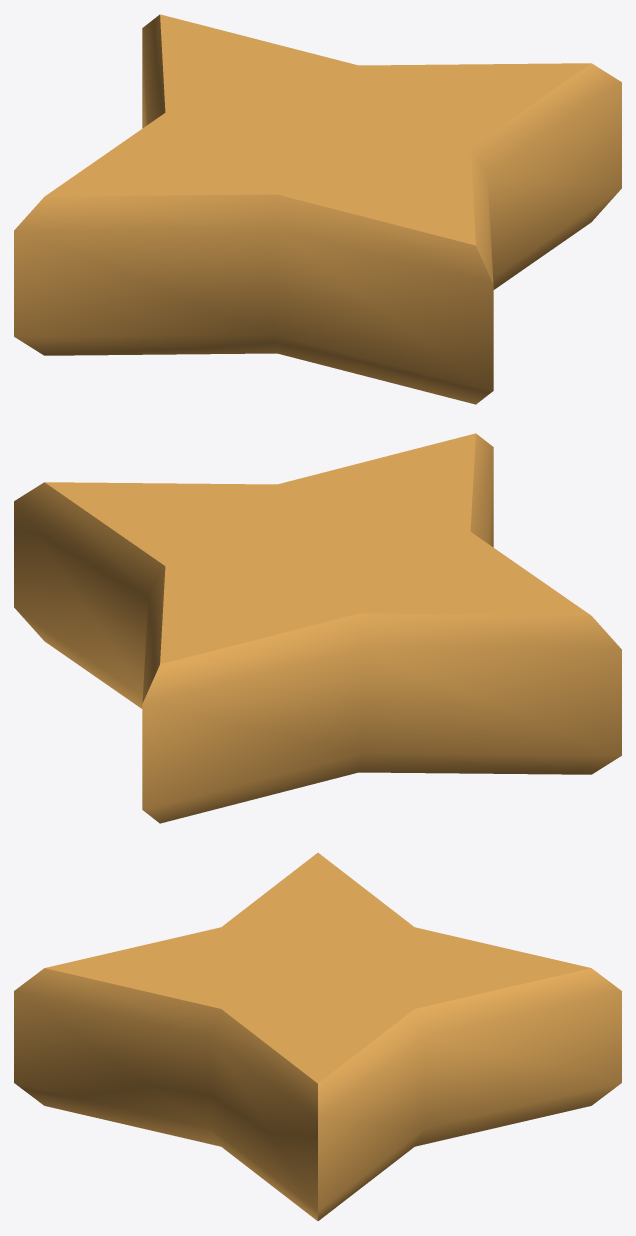
Rendered from Star_4P_03.fbx.
The picture shows the model from 3 angles, top to bottom: view 1: azimuth 30°, elevation 25°; view 2: azimuth 150°, elevation 25°; view 3: azimuth 270°, elevation 25°; orthographic projection. The views are drawn at different scales.
Visible parts, largest first — view 1: Star_4P_03; view 2: Star_4P_03; view 3: Star_4P_03.
Boxes of the visible parts, x1,y1,x2,y2 form: Star_4P_03: (14,14,621,404); Star_4P_03: (14,433,621,823); Star_4P_03: (14,853,621,1220).
Bounding box in the file's own units: 400 × 100 × 400.
